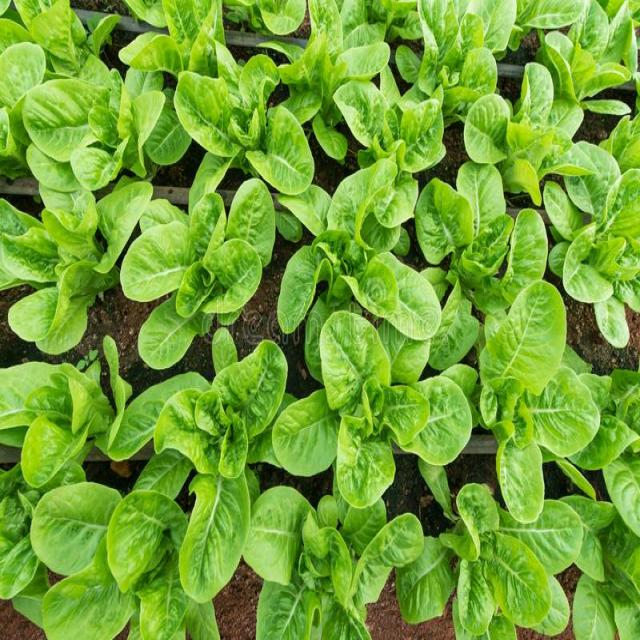Lettuce-Ready-to-Harvest: (300, 315, 459, 492)
